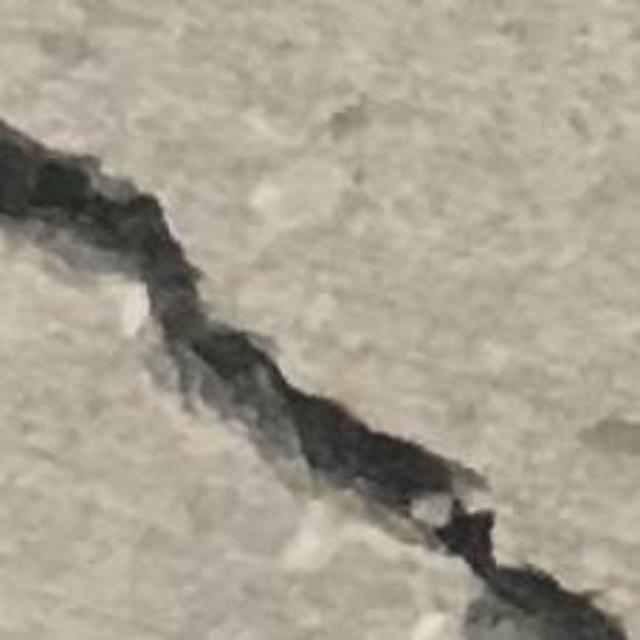crack: (0, 122, 631, 639)
